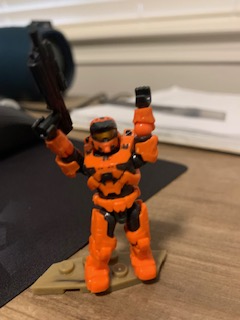rifle: (23, 29, 76, 139)
spartan: (28, 82, 163, 299)
up: (29, 85, 161, 197)
